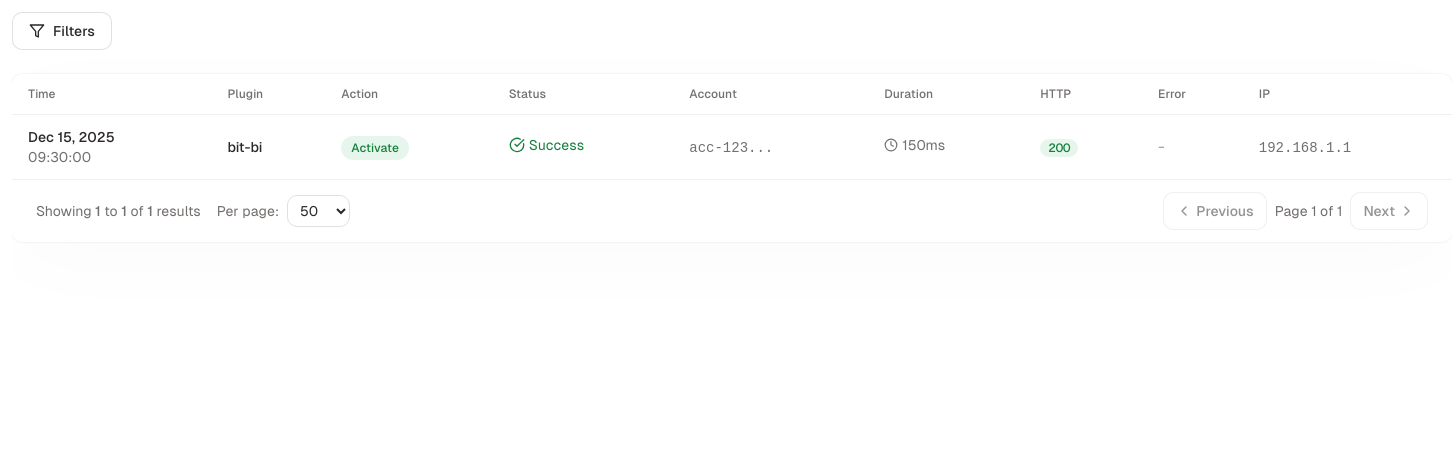
Scenario: AuditLogWidget › Plugin Options › should handle empty plugin list
// Open filter panel
Click the button "Filters": (62,31) x1=12 y1=12 x2=112 y2=50
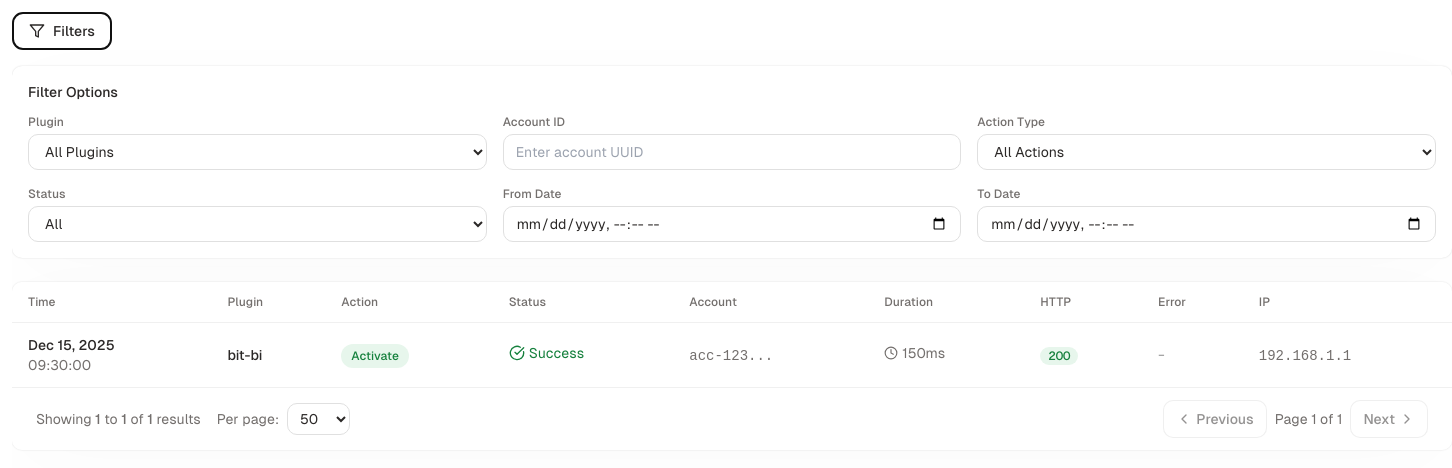
Result: the dropdown labelled "Plugin" is shown at x1=28 y1=134 x2=487 y2=170
